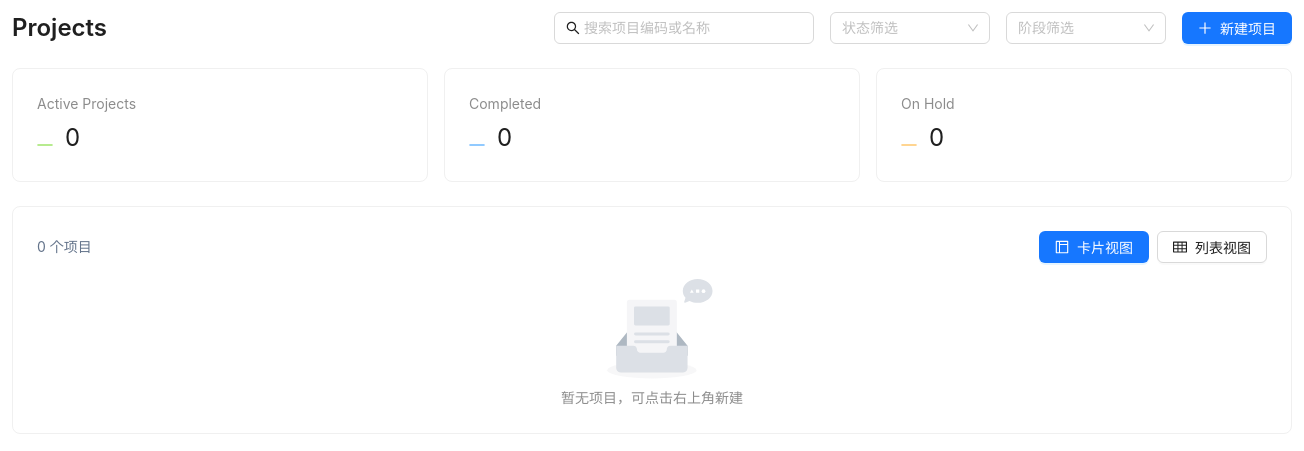
Test case: ProjectsPage › 列表视图错误状态应该渲染 DataErrorAlert
Click the button "列表视图".
click(1212, 247)  # box left=1157, top=231, right=1267, bottom=263
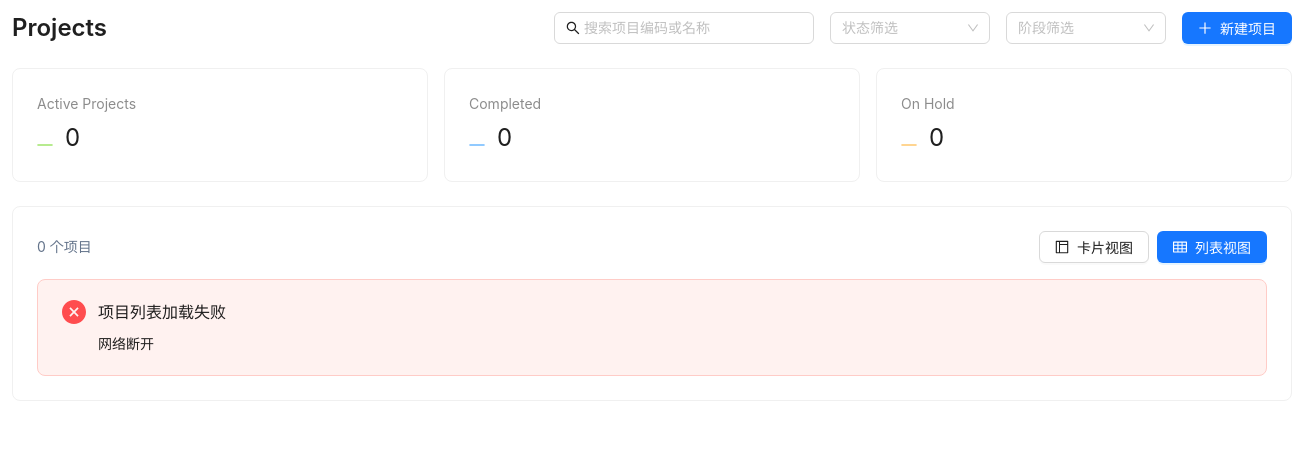
expect the text "项目列表加载失败" is shown: met, box left=98, top=302, right=226, bottom=322
expect the text "网络断开" is shown: met, box left=98, top=335, right=154, bottom=352
